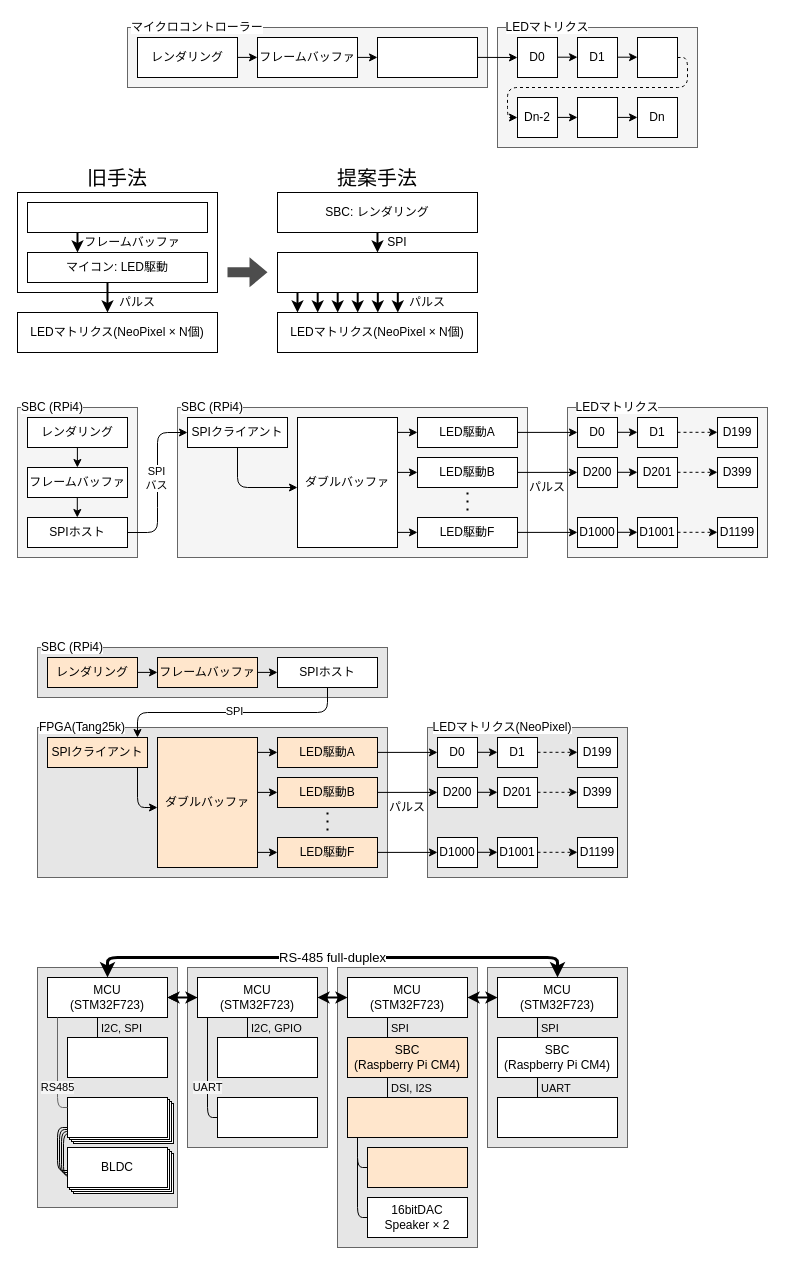
Image size: 785x1265. Some labels were removed from this diagram. Here are the shapes that lost their labels. From the top down, the centre of each, then its label:
At point 427,57: "LED駆動".
At point 657,57: "D2".
At point 597,117: "Dn-1".
At point 117,217: "マイコン: レンダリング".
At point 377,272: "FPGA: LED駆動".
At point 117,1057: "Sensor (Gyro, Mouse)".
At point 267,1057: "UI (OLED, TactSW)".
At point 117,1117: "MotorDriver (STM32G473)".
At point 267,1117: "ZigBee Module (TWELITE Blue)".
At point 407,1117: "FPGA (TangPrimer25k)".
At point 557,1117: "LiDAR (RPLiDAR A1M8)".
At point 417,1167: "LED Matrix (NeoPixel × 1200)".
